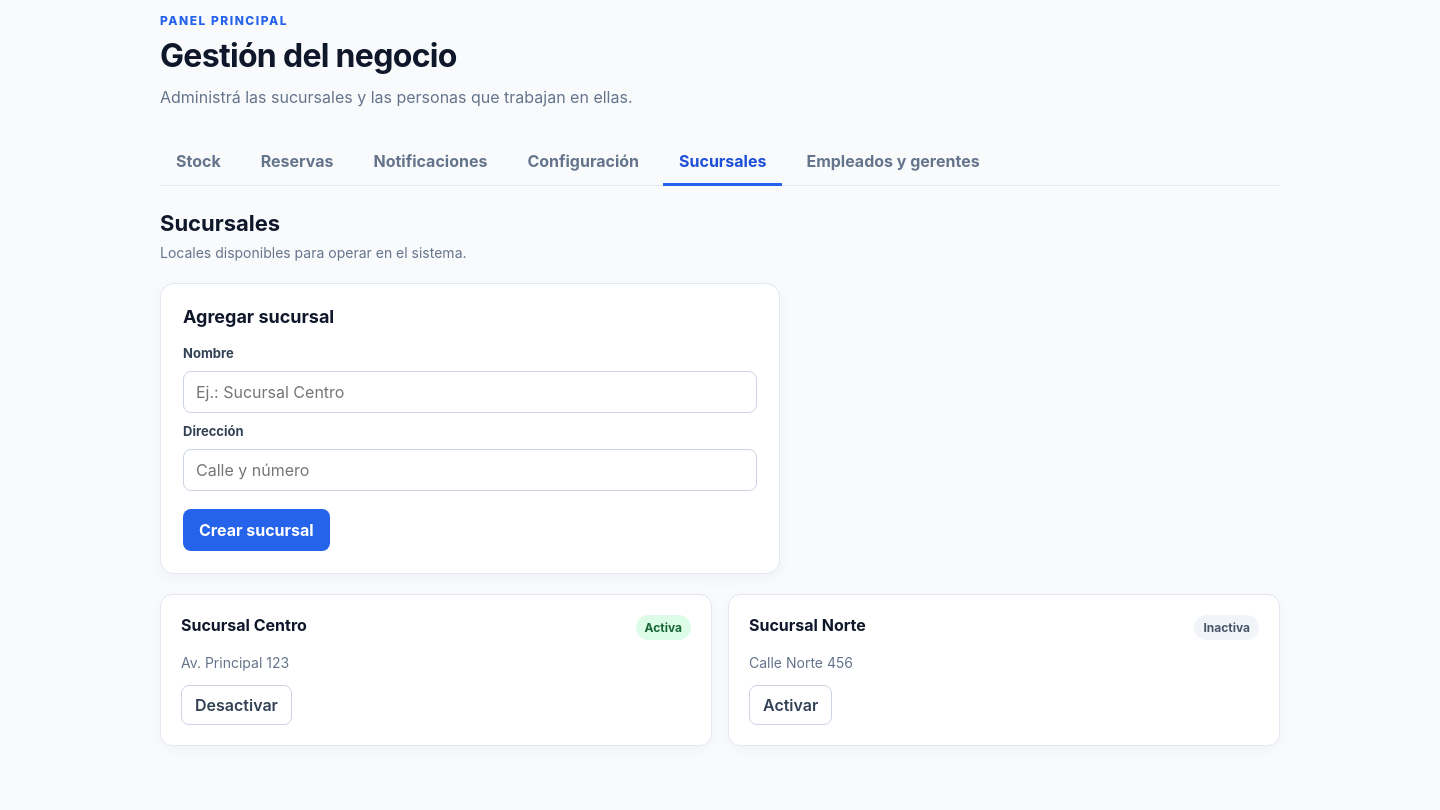
Dashboard - integración › permite al dueño activar o desactivar una sucursal
(page scrolled)
expect the heading "Sucursal Centro" is shown: met, box [181,615,307,635]
Click the button "Desactivar" at (236, 705), box [181,685,292,725]
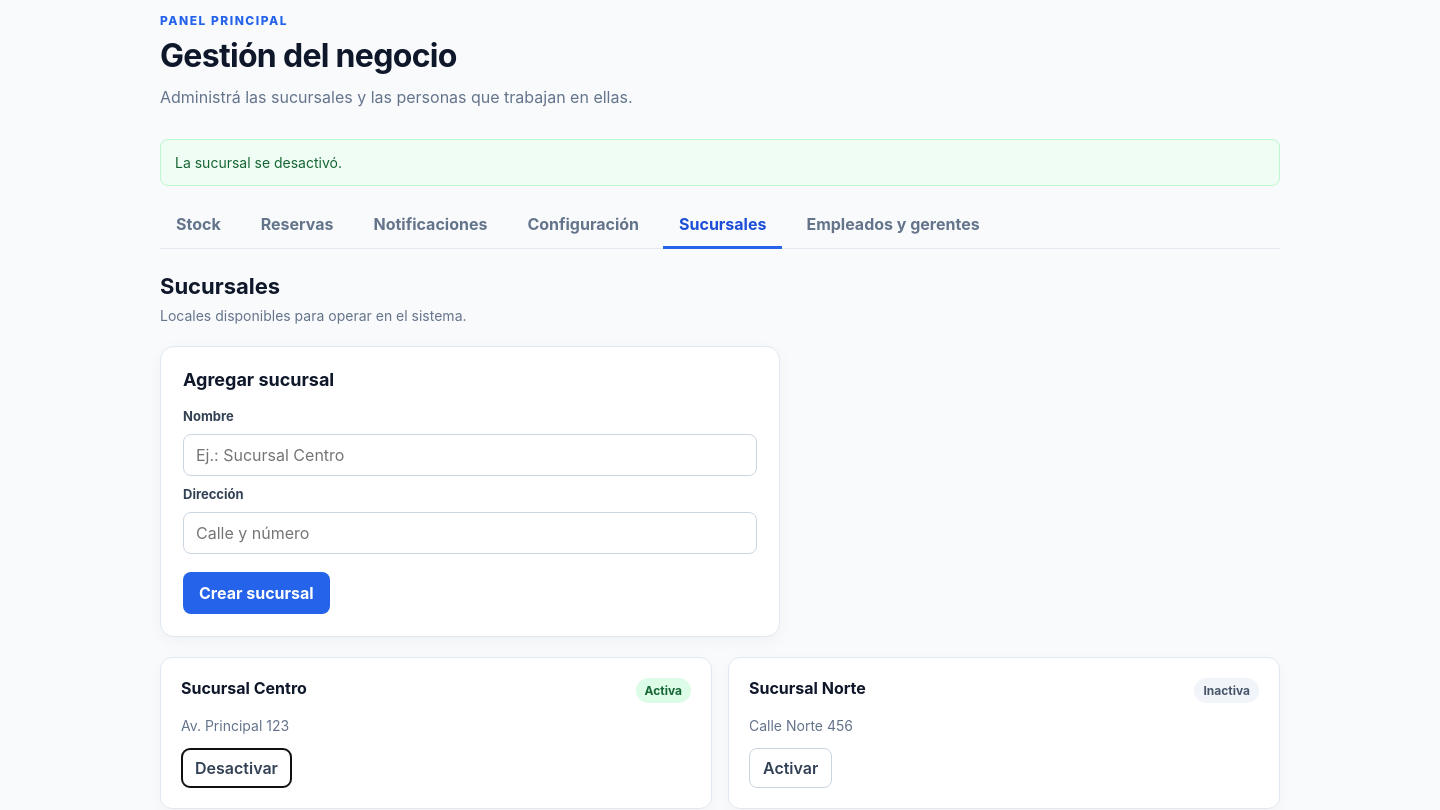
expect the text "La sucursal se desactivó." is shown: met, box [160,139,1280,186]
